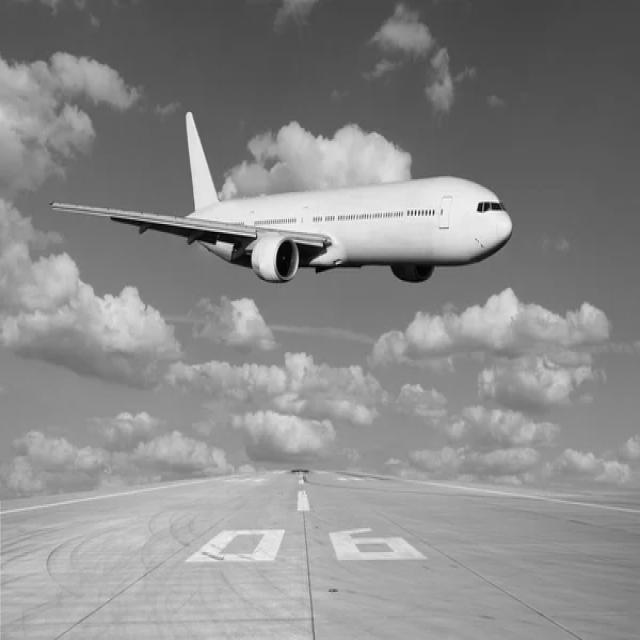Aircraft: (51, 105, 514, 291)
